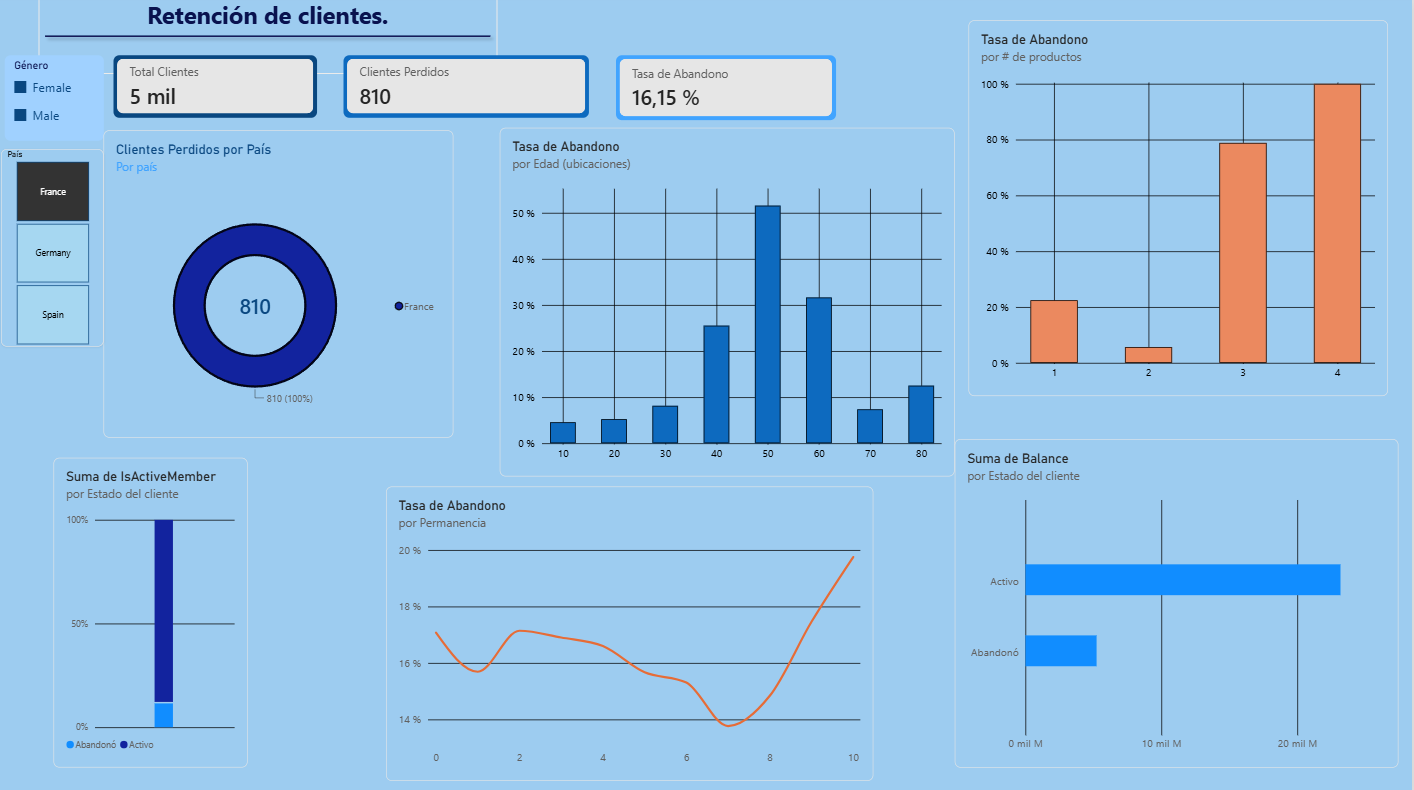

Layout of this report page (visuals, bound fields, positions):
{"tool":"powerbi","page":{"name":"Página 1","canvas":[1920,1080],"ordinal":0},"visuals":[{"type":"textbox","box":[10.3,0,716.3,57.6],"z":0},{"type":"shape","box":[58,0,621.6,100.9],"z":1000},{"type":"cardVisual","fields":{"Data":["_Medidas.Total Clientes"]},"box":[160.1,75.5,276.1,84.7],"z":2000},{"type":"cardVisual","fields":{"Data":["_Medidas.Clientes Perdidos"]},"box":[471.2,75.5,333.1,84.7],"z":3000},{"type":"cardVisual","fields":{"Data":["_Medidas.Tasa de Abandono"]},"box":[841.1,75.5,298.2,88.3],"z":4000},{"type":"slicer","fields":{"Values":["Churn_Modelling.Geography"]},"box":[6,204,139,268],"z":5000},{"type":"slicer","fields":{"Values":["Churn_Modelling.Gender"]},"box":[11,75.5,134.4,116],"z":6000},{"type":"donutChart","fields":{"Category":["Churn_Modelling.Geography"],"Y":["_Medidas.Clientes Perdidos"]},"box":[145.7,178.6,474.3,417.1],"z":7000},{"type":"clusteredColumnChart","fields":{"Category":["Churn_Modelling.Age (ubicaciones)"],"Y":["_Medidas.Tasa de Abandono"]},"box":[682.8,174.8,616.6,473],"z":8000},{"type":"barChart","fields":{"Category":["Churn_Modelling.Estado del cliente"],"Y":["Sum(Churn_Modelling.Balance)"]},"box":[1300,596,601.8,445.4],"z":9000},{"type":"clusteredColumnChart","fields":{"Category":["Churn_Modelling.NumOfProducts"],"Y":["_Medidas.Tasa de Abandono"]},"box":[1317.8,29.4,568.7,509.8],"z":9001},{"type":"hundredPercentStackedColumnChart","fields":{"Series":["Churn_Modelling.Estado del cliente"],"Y":["Sum(Churn_Modelling.IsActiveMember)"]},"box":[78,622,263.2,419.6],"z":9002},{"type":"lineChart","fields":{"Category":["Churn_Modelling.Tenure"],"Y":["_Medidas.Tasa de Abandono"]},"box":[528.2,660.7,660.7,399.4],"z":9003}]}

Visuals, with their boxes in screenshot pixels (x1, y1, x2, y2), scaled from the page's 1920x1080 canvas onto the 1414x790 screenshot:
textbox: 8, 0, 535, 42
shape: 43, 0, 500, 74
cardVisual - _Medidas.Total Clientes: 118, 55, 321, 117
cardVisual - _Medidas.Clientes Perdidos: 347, 55, 592, 117
cardVisual - _Medidas.Tasa de Abandono: 619, 55, 839, 120
slicer - Churn_Modelling.Geography: 4, 149, 107, 345
slicer - Churn_Modelling.Gender: 8, 55, 107, 140
donutChart - Churn_Modelling.Geography x _Medidas.Clientes Perdidos: 107, 131, 457, 436
clusteredColumnChart - Churn_Modelling.Age (ubicaciones) x _Medidas.Tasa de Abandono: 503, 128, 957, 474
barChart - Churn_Modelling.Estado del cliente x Sum(Churn_Modelling.Balance): 957, 436, 1401, 762
clusteredColumnChart - Churn_Modelling.NumOfProducts x _Medidas.Tasa de Abandono: 971, 22, 1389, 394
hundredPercentStackedColumnChart - Churn_Modelling.Estado del cliente x Sum(Churn_Modelling.IsActiveMember): 57, 455, 251, 762
lineChart - Churn_Modelling.Tenure x _Medidas.Tasa de Abandono: 389, 483, 876, 775
